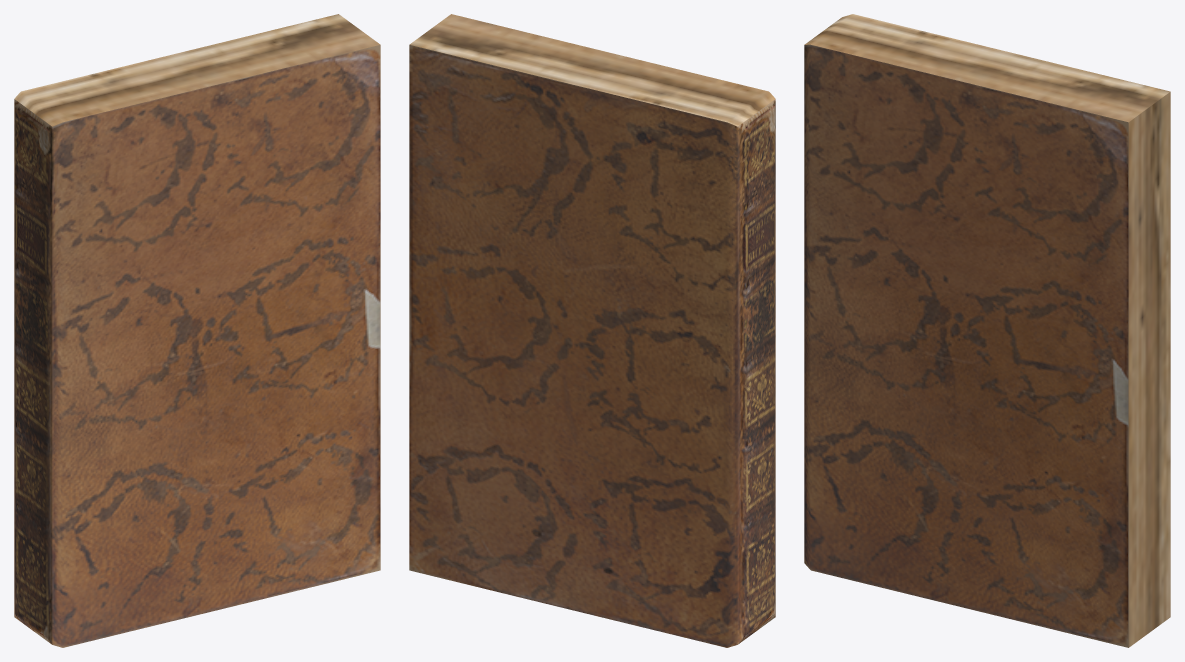
File: SM_Book_02.fbx
3 views of the same model, side by side, from view 1: azimuth 30°, elevation 25°; view 2: azimuth 150°, elevation 25°; view 3: azimuth 330°, elevation 25° (orthographic).
Visible parts, largest first — view 1: SM_Book_02; view 2: SM_Book_02; view 3: SM_Book_02.
Part boxes in pixels (x1,y1,x2,y2): SM_Book_02: (14,14,380,647); SM_Book_02: (409,14,775,647); SM_Book_02: (804,14,1170,647).
Bounding box in the file's own units: 13.6 × 20.7 × 3.
Materials: 1 (1 with a texture image).
